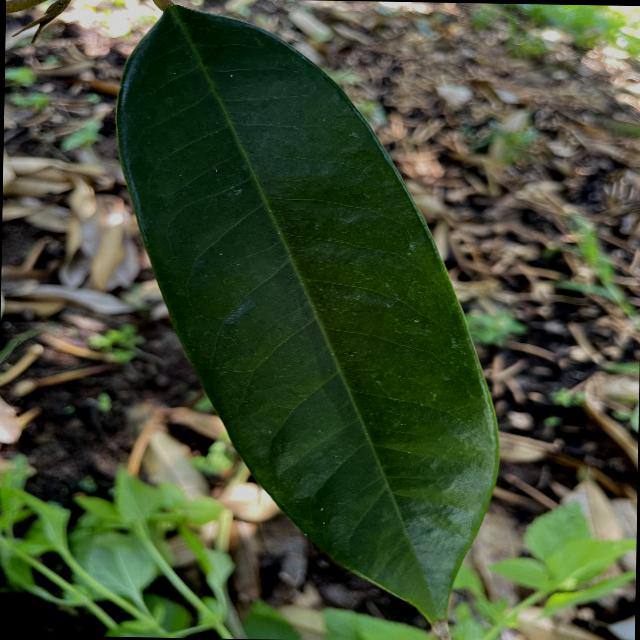No Disease: (99, 0, 528, 639)
